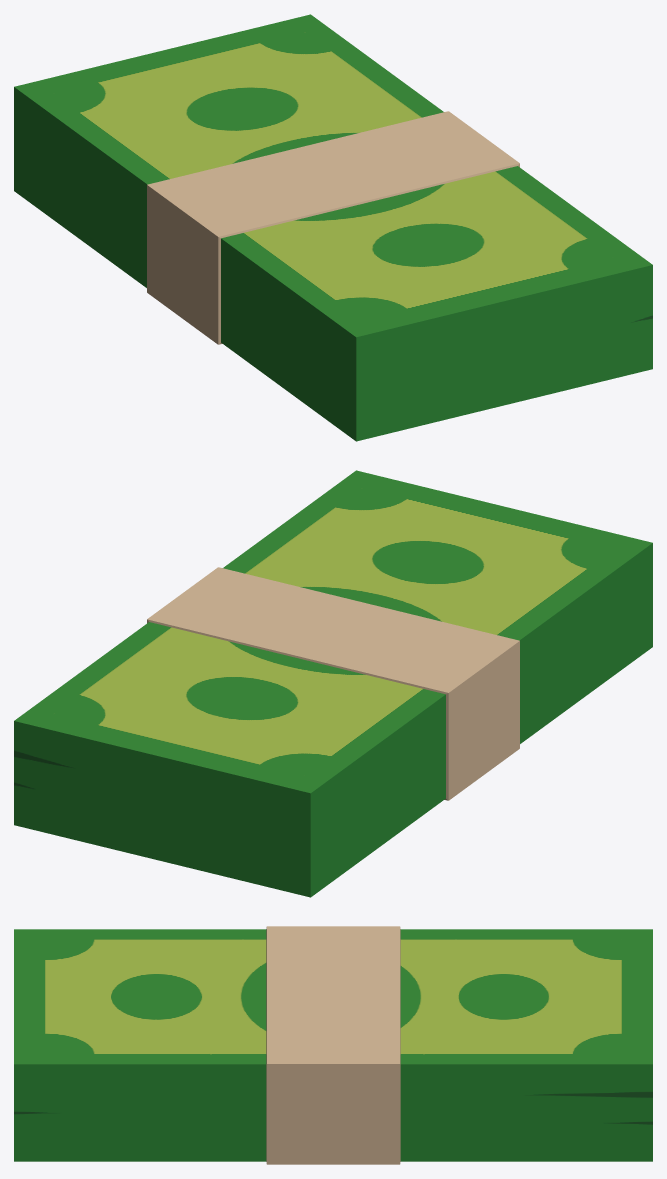
File: Money.fbx
The picture shows the model from 3 angles, top to bottom: view 1: azimuth 30°, elevation 25°; view 2: azimuth 150°, elevation 25°; view 3: azimuth 270°, elevation 25°; orthographic projection. The views are drawn at different scales.
Visible parts, largest first — view 1: Cube; view 2: Cube; view 3: Cube.
Boxes of the visible parts, x1,y1,x2,y2 form: Cube: [14, 14, 652, 441]; Cube: [14, 470, 652, 897]; Cube: [14, 926, 652, 1164].
Bounding box in the file's own units: 1.27 × 0.4348 × 2.5.
2 materials, 1 textured.
